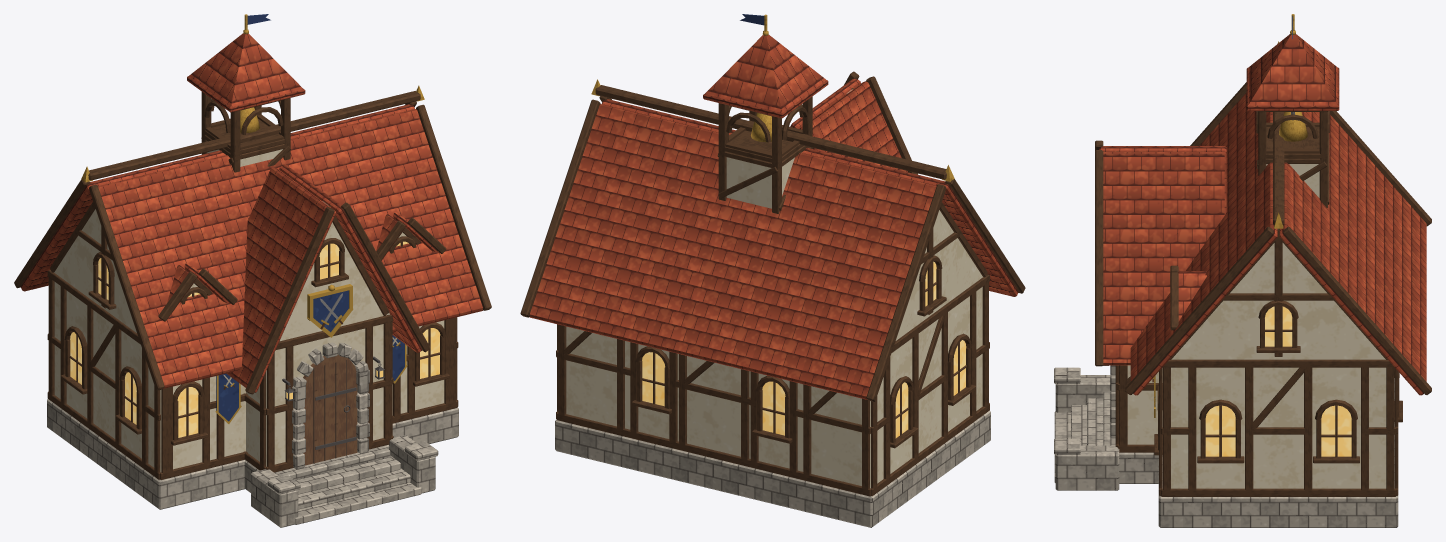
The model's file is guild_hall_exterior.glb.
3 views of the same model, side by side, from view 1: azimuth 30°, elevation 25°; view 2: azimuth 150°, elevation 25°; view 3: azimuth 270°, elevation 25° (orthographic). The views are drawn at different scales.
Parts seen in each view (by area): view 1: guild_hall_exterior_roof, guild_hall_exterior_walls, guild_hall_exterior_door_leaf, guild_hall_exterior_crest, guild_hall_exterior_banners; view 2: guild_hall_exterior_roof, guild_hall_exterior_walls; view 3: guild_hall_exterior_walls, guild_hall_exterior_roof.
Boxes of the visible parts, x1,y1,x2,y2 form: guild_hall_exterior_roof: (14,14,491,394); guild_hall_exterior_walls: (47,92,458,527); guild_hall_exterior_door_leaf: (303,354,357,465); guild_hall_exterior_crest: (307,284,353,337); guild_hall_exterior_banners: (215,335,407,423); guild_hall_exterior_roof: (520,14,1025,401); guild_hall_exterior_walls: (555,88,990,527); guild_hall_exterior_walls: (1054,111,1402,527); guild_hall_exterior_roof: (1095,14,1431,395).
Size of what is drawn, in the model's own units: 7.16 by 8.32 by 6.53.
14 materials, 14 textured.
